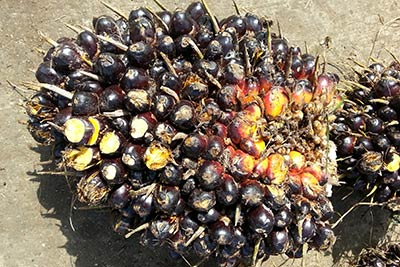PalmUnripe: (18, 8, 335, 261), (339, 57, 400, 200)
